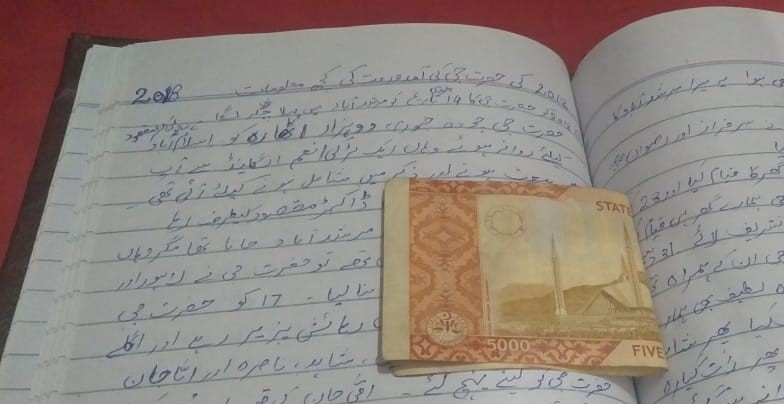5000 rupee: (378, 168, 674, 375)
